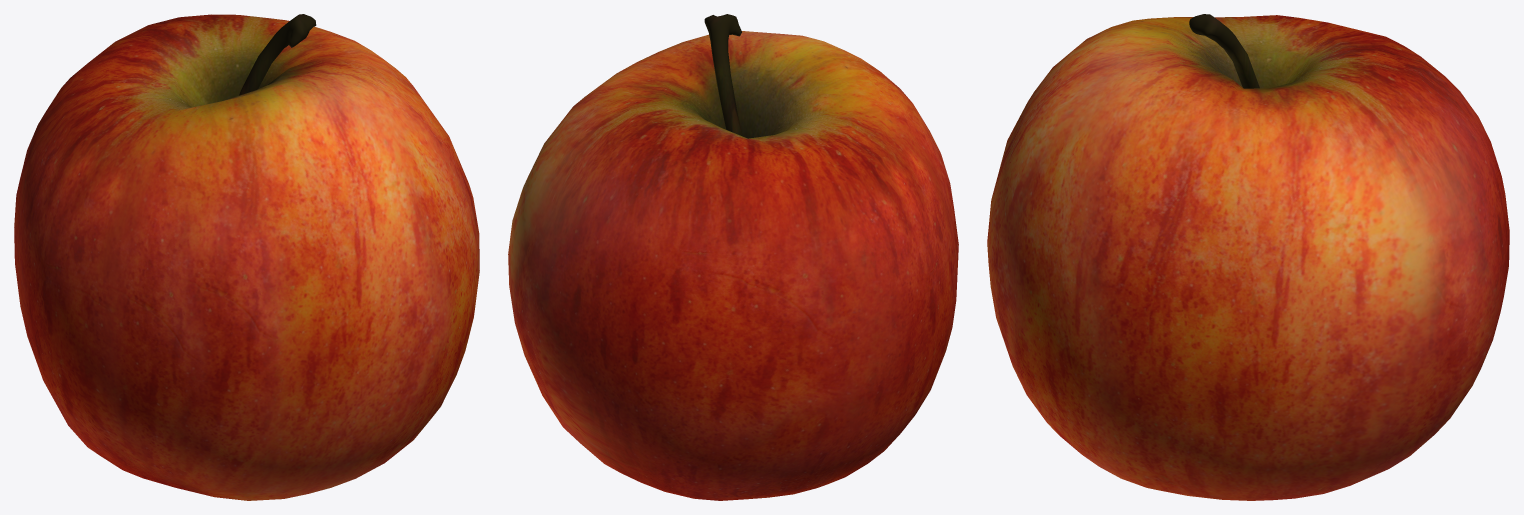
File: apple_60afac65.glb
3 renders of one model, left to right at view 1: azimuth 30°, elevation 25°; view 2: azimuth 150°, elevation 25°; view 3: azimuth 270°, elevation 25°, orthographic. The views are drawn at different scales.
Parts seen in each view (by area): view 1: apple_low_obj; view 2: apple_low_obj; view 3: apple_low_obj.
Boxes of the visible parts, <box> form: apple_low_obj: <box>14,14,479,500</box>; apple_low_obj: <box>508,14,958,500</box>; apple_low_obj: <box>987,14,1509,500</box>.
Bounding box in the file's own units: 76.34 × 79.5 × 82.14.
Materials: 1 (1 with a texture image).
